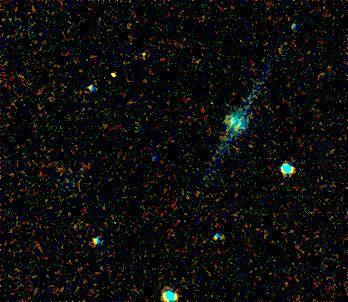star: (99, 58, 129, 88)
